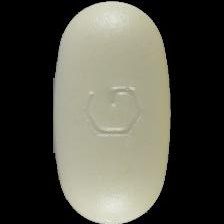59762-0450: (0, 0, 224, 224)
